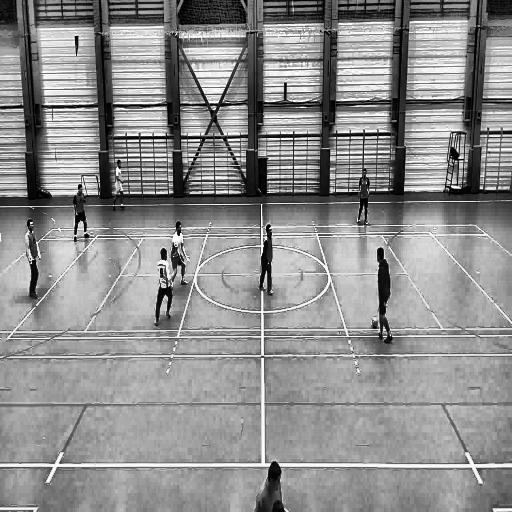ball: (372, 316, 379, 330)
player: (377, 247, 394, 346), (168, 221, 191, 290), (154, 248, 174, 327), (25, 215, 42, 299), (258, 222, 276, 298), (72, 182, 91, 243), (356, 165, 370, 226), (112, 158, 126, 214)
